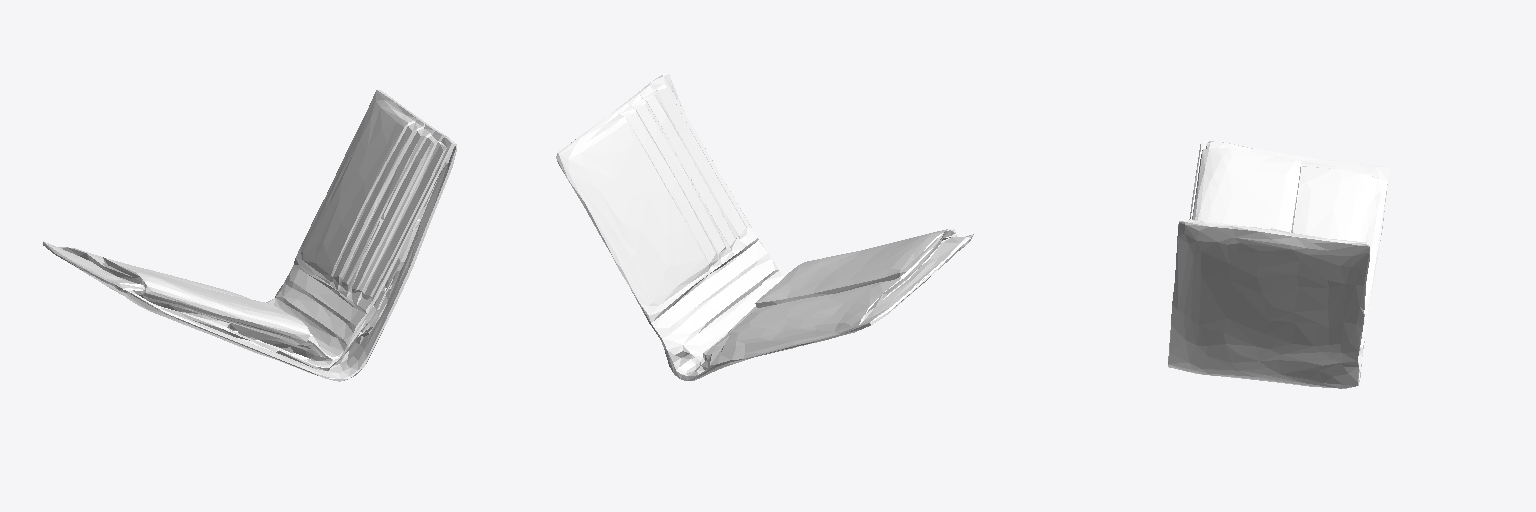
The model's file is Wallet.obj.
3 views of the same model, side by side, from view 1: azimuth 30°, elevation 25°; view 2: azimuth 150°, elevation 25°; view 3: azimuth 270°, elevation 25° (orthographic).
Parts seen in each view (by area): view 1: Group48104; view 2: Group48104; view 3: Group48104.
Boxes of the visible parts, <box> form: Group48104: <box>43,90,456,381</box>; Group48104: <box>556,74,973,380</box>; Group48104: <box>1168,141,1391,388</box>.
Bounding box in the file's own units: 21.03 × 13.13 × 12.17.